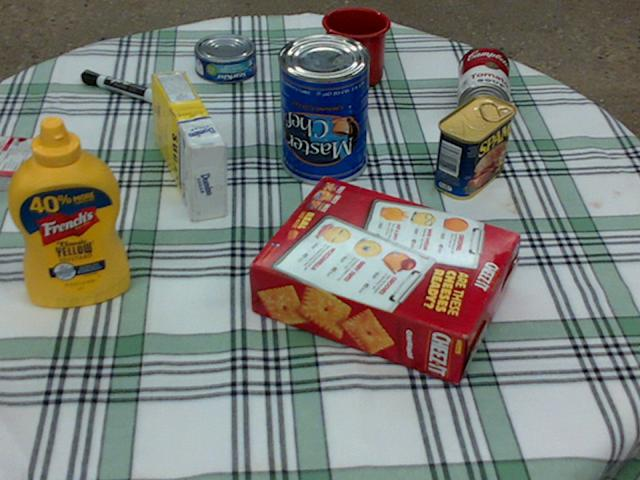cracker_box: (250, 176, 518, 384)
gelatin_box: (0, 137, 74, 194)
large_marker: (82, 69, 161, 103)
master_chef_can: (278, 34, 369, 184)
mug: (323, 7, 391, 87)
mustard_bottle: (7, 116, 128, 305)
potted_meat_can: (433, 95, 514, 199)
sugar_box: (150, 70, 226, 220)
tomato_soup_can: (456, 46, 509, 128)
tuna_fish_can: (194, 33, 256, 82)
